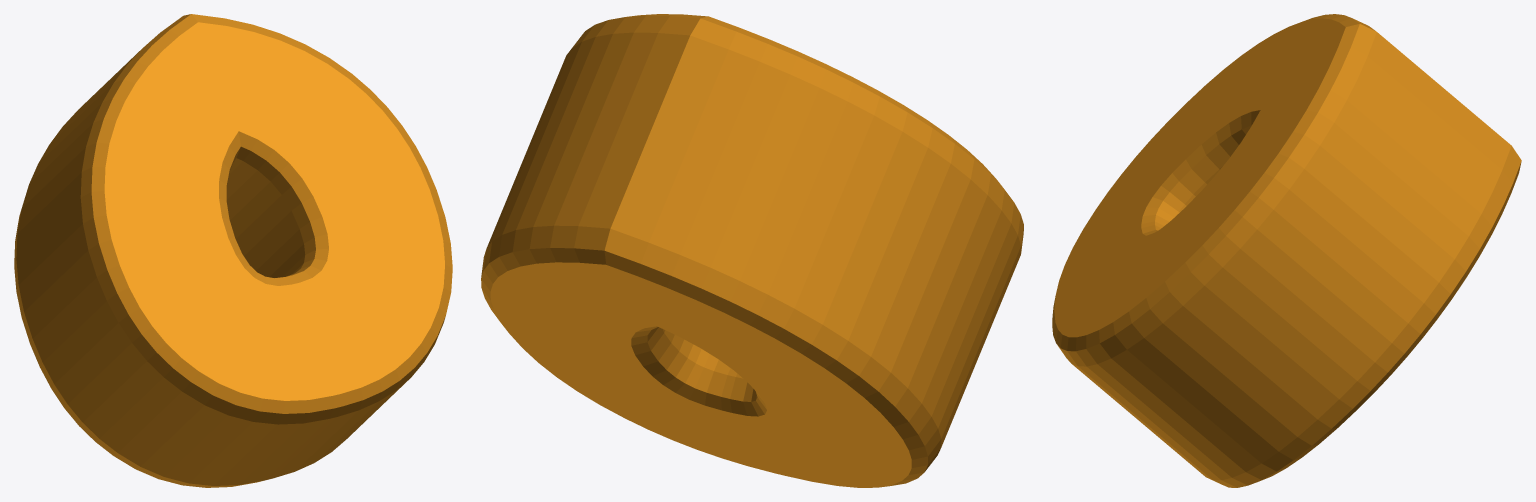
The picture shows the model from 3 angles, left to right: view 1: azimuth 30°, elevation 25°; view 2: azimuth 150°, elevation 25°; view 3: azimuth 270°, elevation 25°; orthographic projection. The views are drawn at different scales.
Parts seen in each view (by area): view 1: letter; view 2: letter; view 3: letter.
Boxes of the visible parts, x1,y1,x2,y2 form: letter: (14, 14, 452, 487); letter: (481, 14, 1023, 487); letter: (1052, 14, 1521, 487).
Size of the model in its own units: 0.6201 by 0.7317 by 0.7142.
